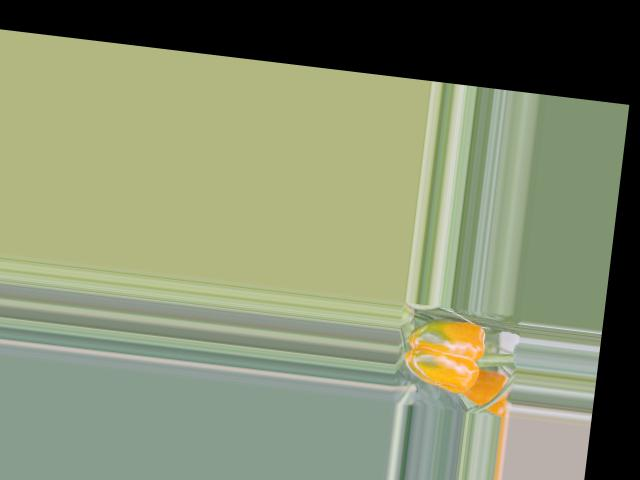bell_pepper: (394, 305, 497, 399)
